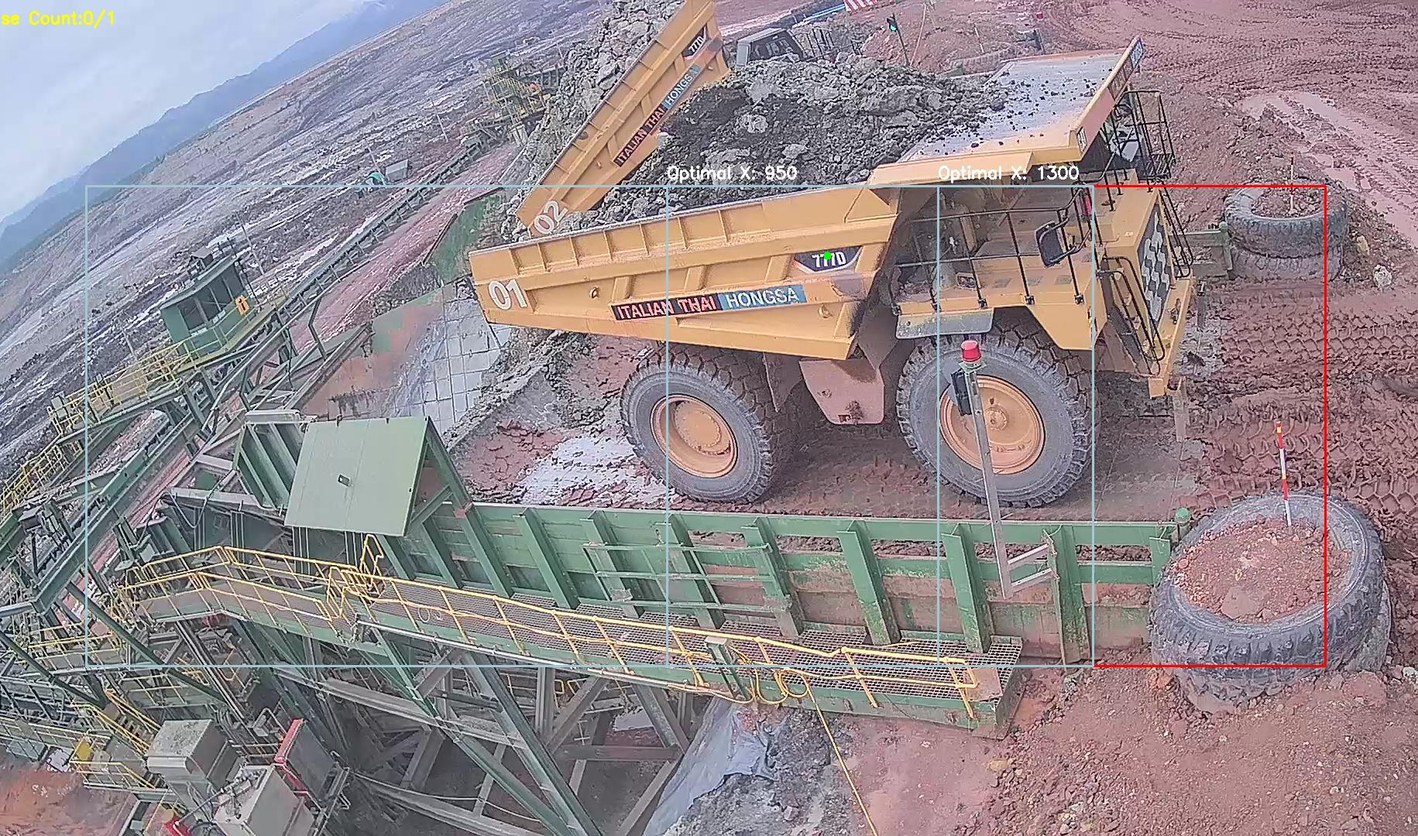company: (600, 274, 818, 323)
full_load: (630, 49, 942, 211)
mining_truck: (452, 31, 1217, 504)
tail_number: (481, 269, 541, 317)
truck_size: (792, 241, 859, 274)
